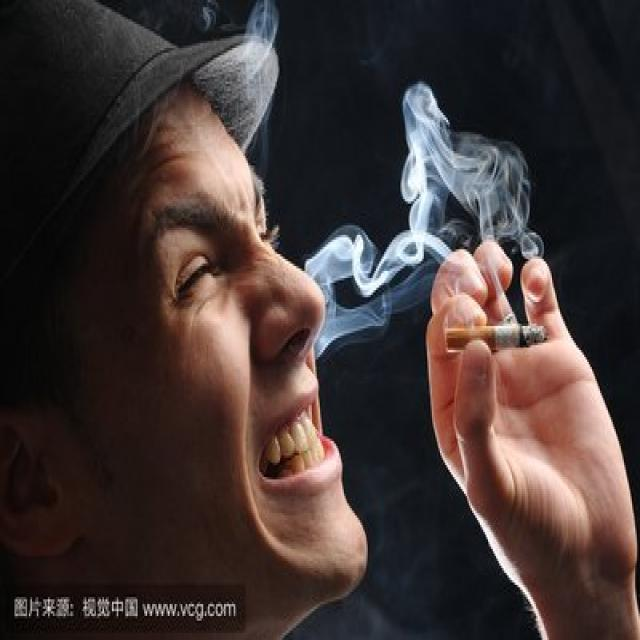smoke: (489, 321, 547, 352)
